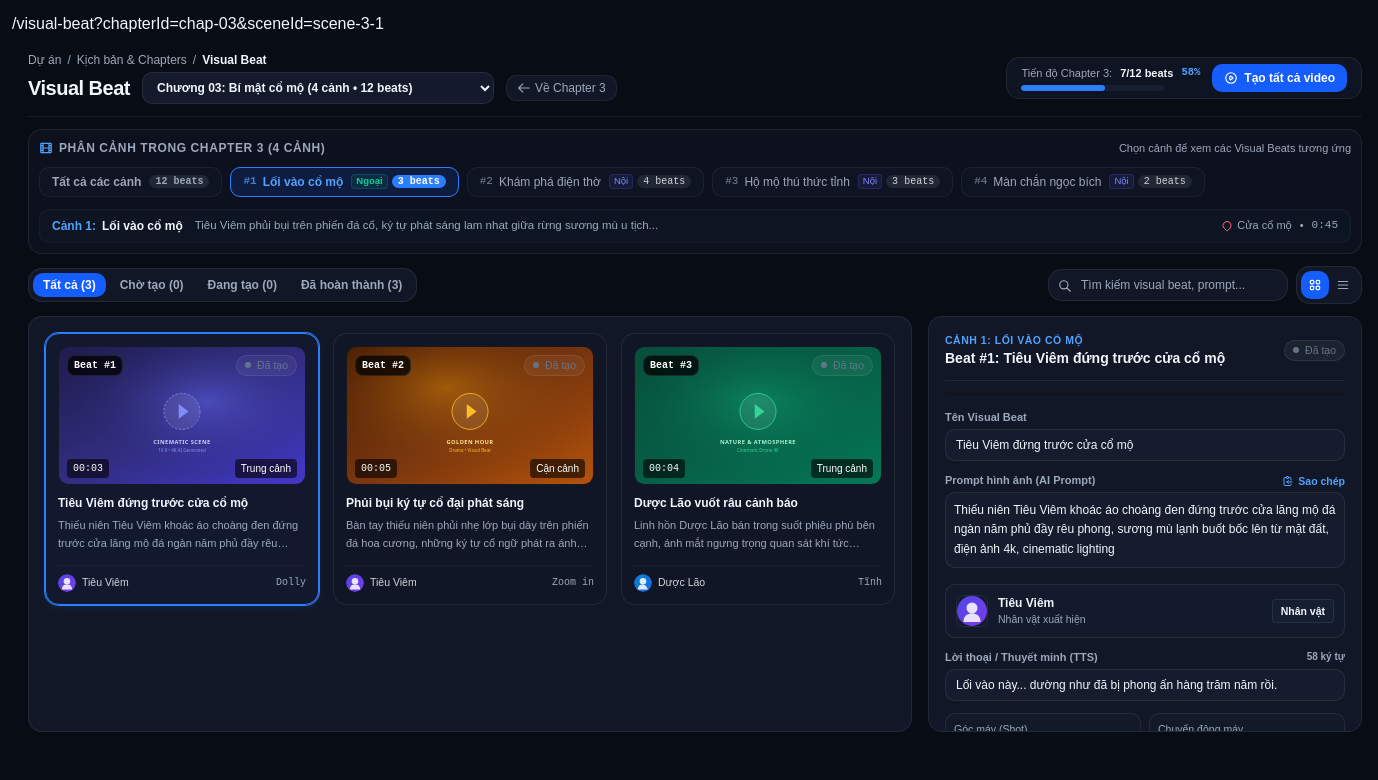
Test: VisualBeatPage - Chapter > Scene > Visual Beat Hierarchy › updates inspector panel when a different beat is selected
Click on Beat 2 ("Phủi bụi ký tự cổ đại phát sáng")
Click the text "Phủi bụi ký tự cổ đại phát sáng": (470, 469) [333,332,607,605]
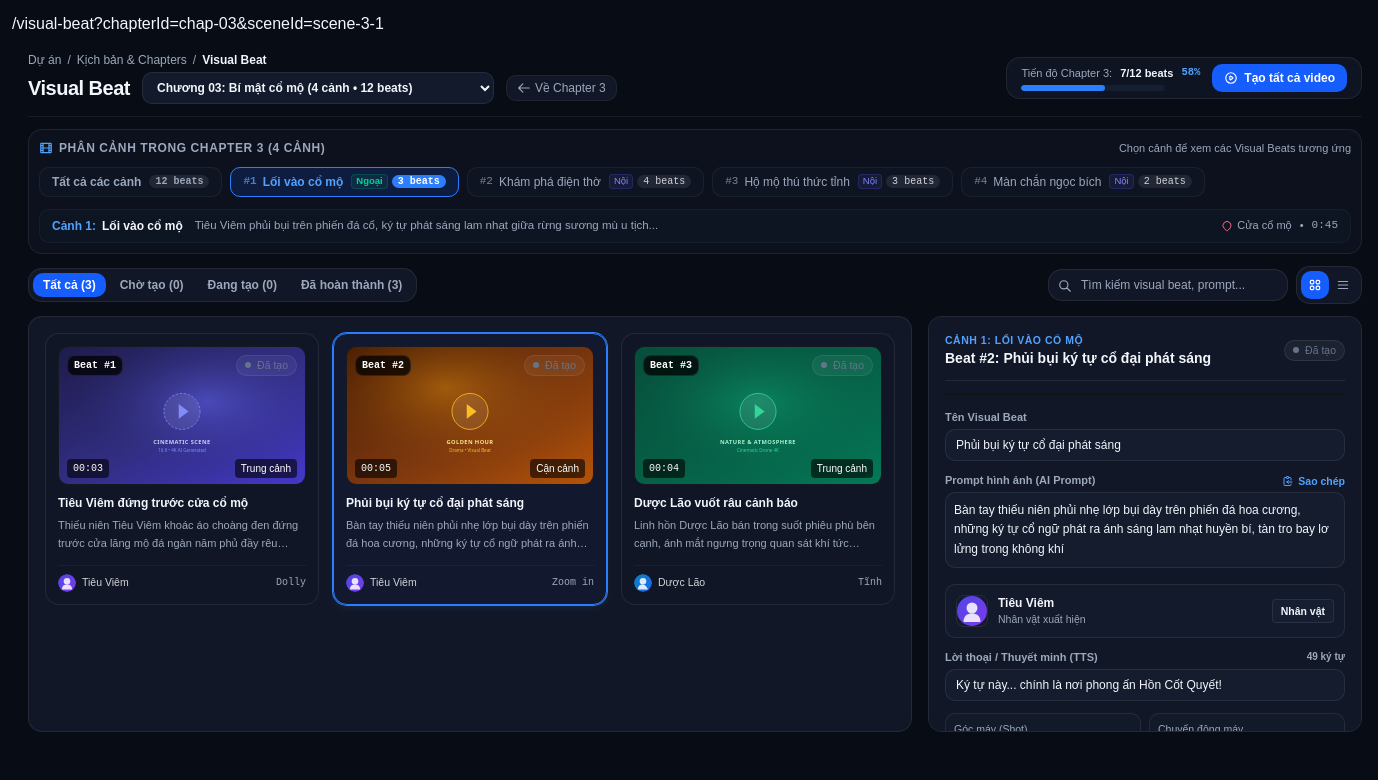
Check: the heading "Beat #2: Phủi bụi ký tự cổ đại phát sáng" is shown, box [945,348,1211,368]
Check: the field showing "Ký tự này... chính là nơi phong ấn Hồn Cốt Quyết!" below "Lời thoại / Thuyết minh (TTS)" is shown, box [945,669,1345,701]
